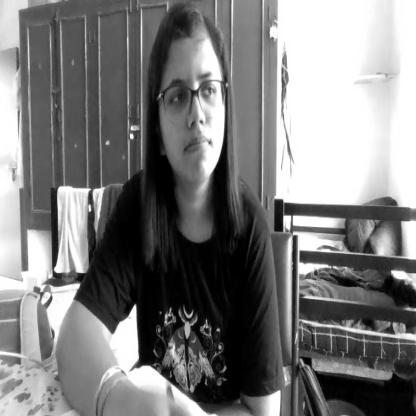Normal: (151, 5, 226, 188)
